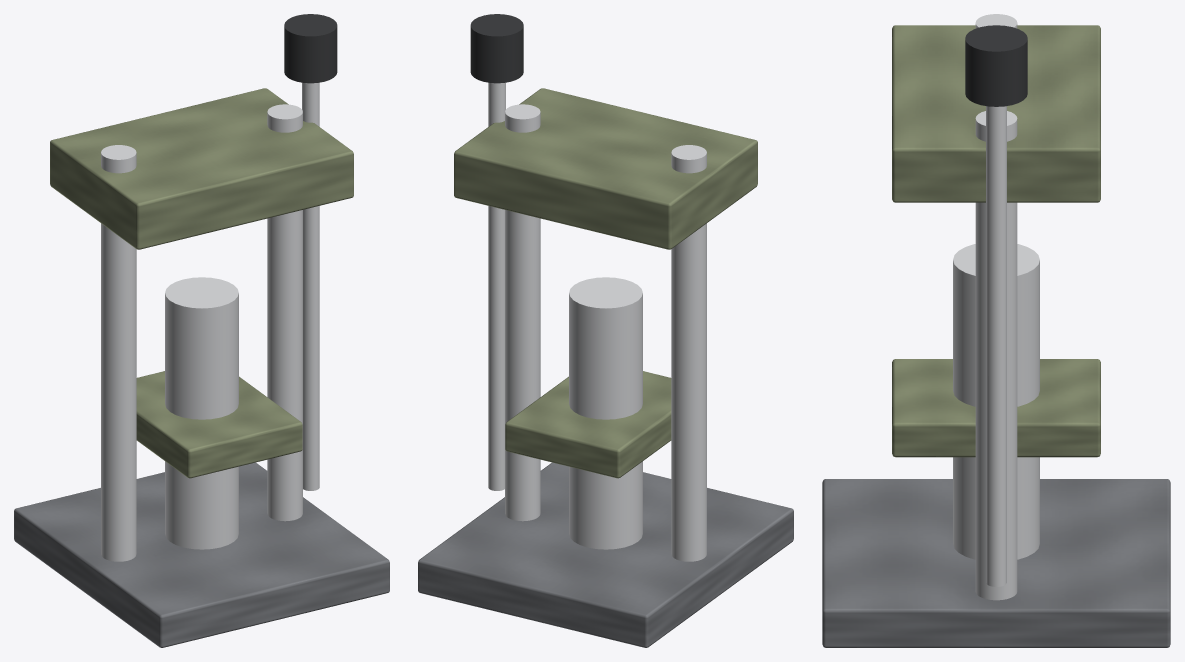
File: fps-weapon-set-and-firing-range-reloading-press-0c978db4__19541.glb
3 renders of one model, left to right at view 1: azimuth 30°, elevation 25°; view 2: azimuth 150°, elevation 25°; view 3: azimuth 270°, elevation 25°, orthographic. The views are drawn at different scales.
Parts seen in each view (by area): view 1: reloading-press; view 2: reloading-press; view 3: reloading-press.
Part boxes in pixels (x1,y1,x2,y2): reloading-press: (14,14,389,647); reloading-press: (418,14,793,647); reloading-press: (822,14,1170,647).
Size of the model in its own units: 0.193 by 0.385 by 0.2.
4 materials, 2 textured.
